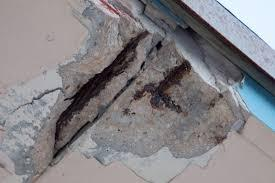exposed_rebar: (57, 31, 149, 141), (134, 61, 191, 113)
spalling: (0, 2, 248, 180)
